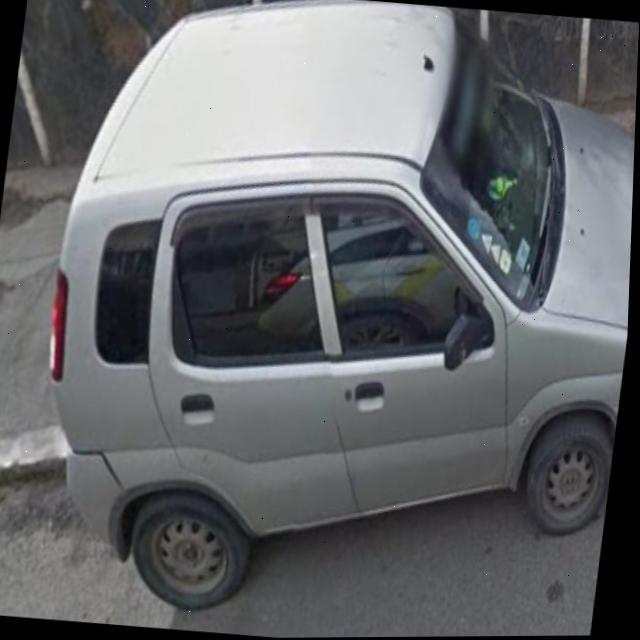vehicle: (26, 0, 640, 637)
